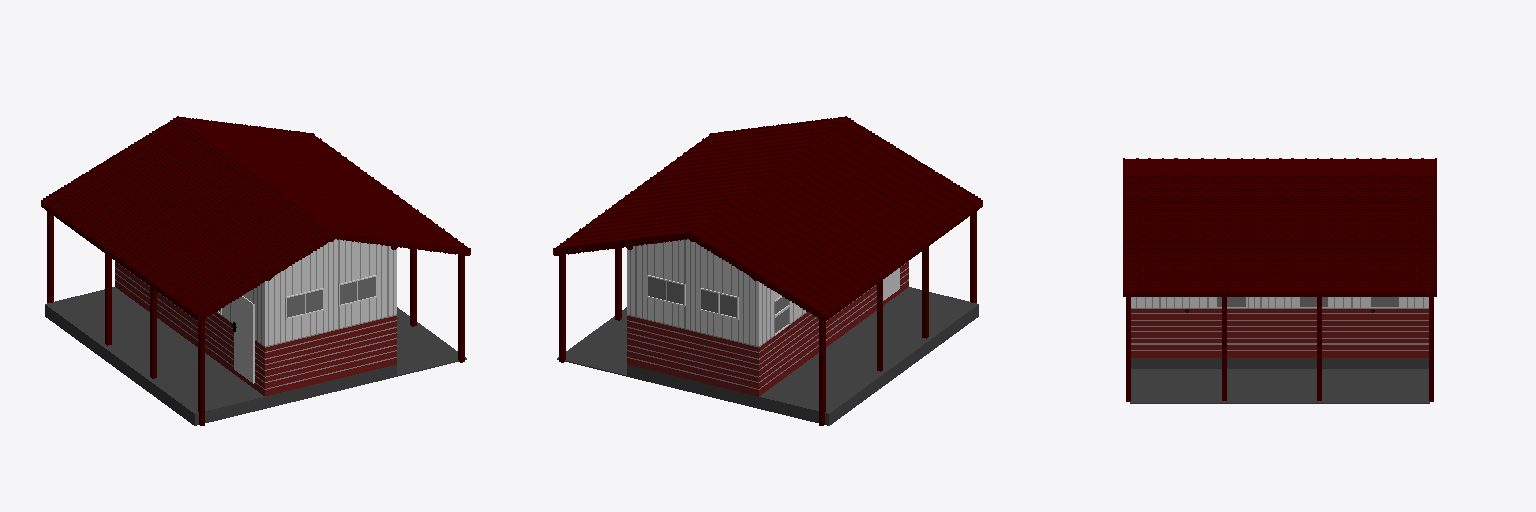
3 views of the same model, side by side, from view 1: azimuth 30°, elevation 25°; view 2: azimuth 150°, elevation 25°; view 3: azimuth 270°, elevation 25° (orthographic).
Parts seen in each view (by area): view 1: object 1; view 2: object 1; view 3: object 1.
Boxes of the visible parts, box(x1,y1,x2,y2) form: object 1: box(41, 116, 470, 425); object 1: box(553, 116, 982, 425); object 1: box(1123, 158, 1436, 403).
Bounding box in the file's own units: 25.6 × 14.7 × 25.6.
Materials: 1 (1 with a texture image).